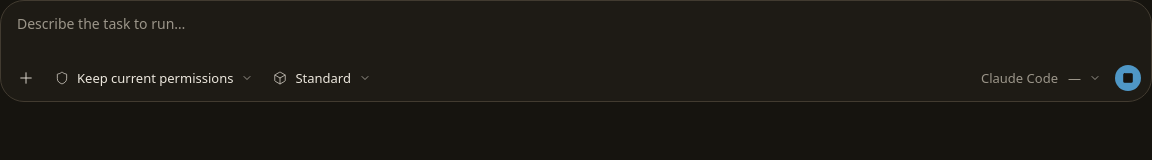
Test case: shows stop failures and allows retry without leaving the composer disabled
The image size is (1152, 160).
Step 1. Click the button named "Stop" → (1128, 78), box x1=1115 y1=65 x2=1141 y2=91
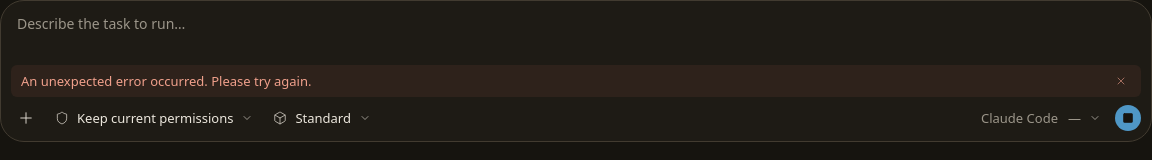
Expected: the button named "Stop" is enabled, x1=1115 y1=105 x2=1141 y2=131
Expected: the message "An unexpected error occurred. Please try again." is shown, x1=11 y1=65 x2=1141 y2=97
